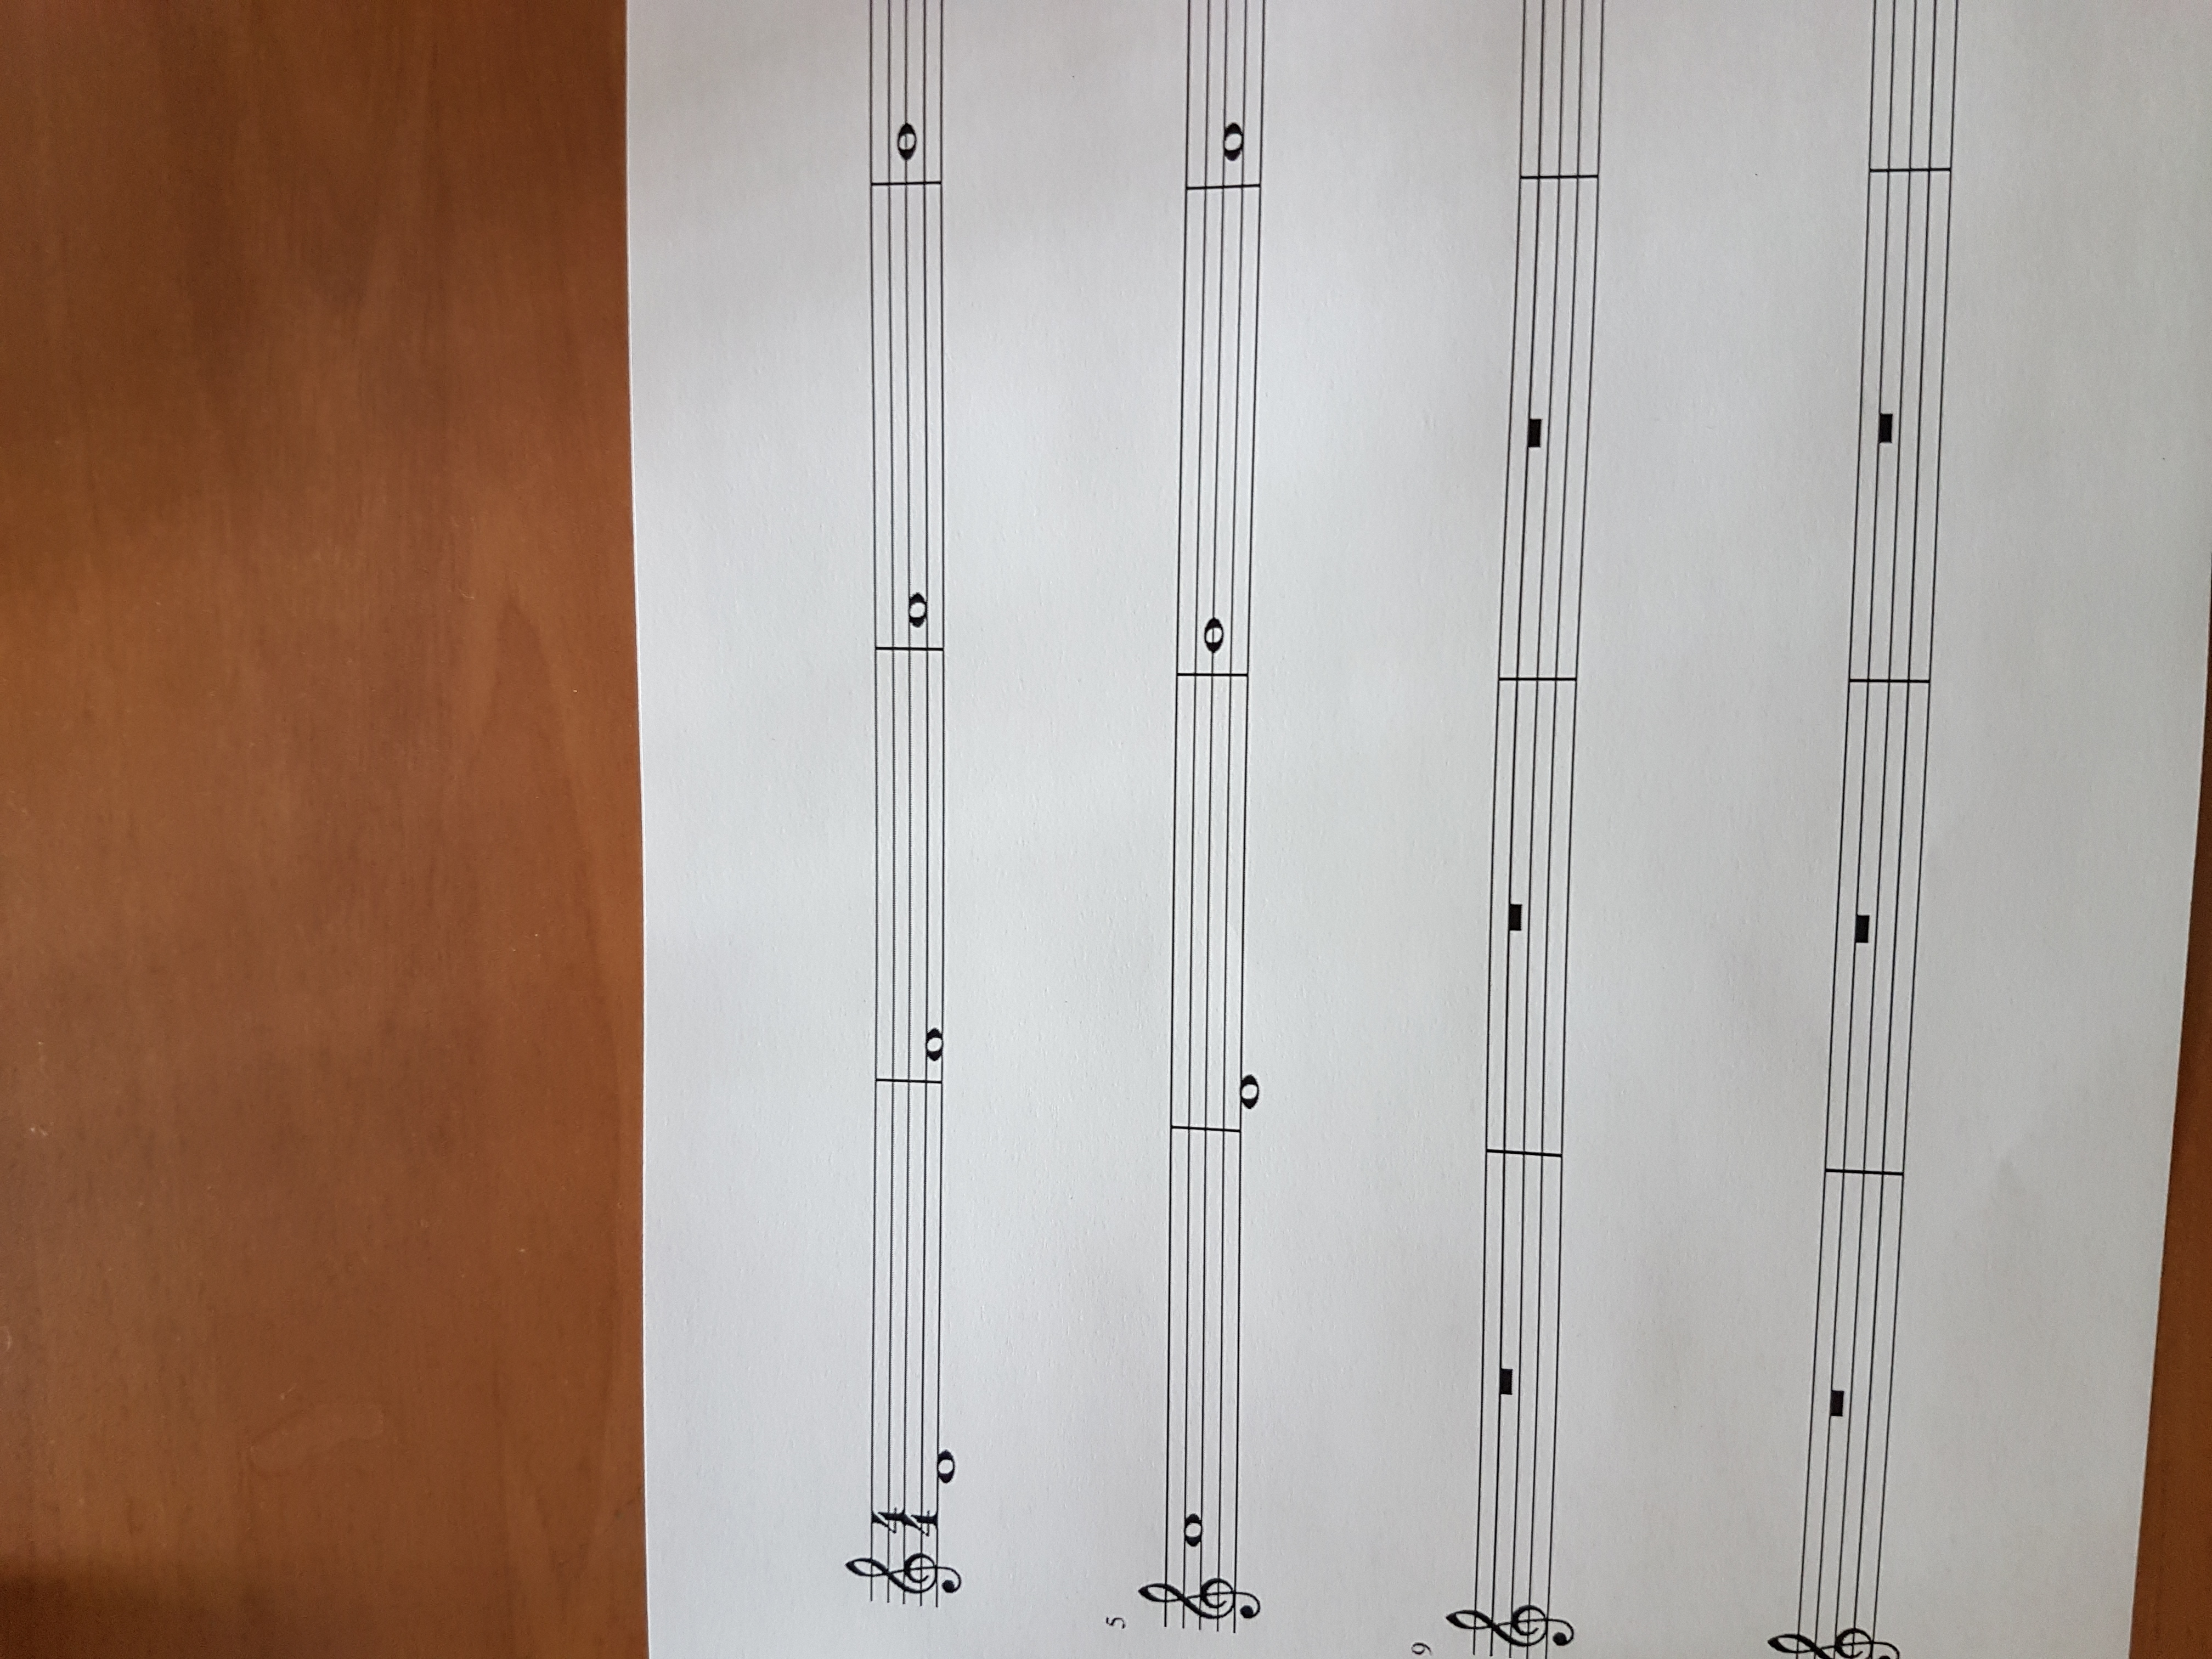key: (831, 1539, 974, 1621), (1435, 1593, 1590, 1654), (1125, 1572, 1271, 1628)
pipe: (1834, 662, 1958, 697), (1810, 1154, 1918, 1190), (1482, 662, 1590, 697), (1468, 1134, 1578, 1168), (1851, 153, 1970, 183), (862, 633, 961, 667), (1508, 164, 1620, 192), (1162, 662, 1264, 688), (1148, 1114, 1258, 1138), (866, 1072, 960, 1100), (860, 173, 961, 195), (1176, 176, 1277, 195)
semibreve_a: (845, 572, 968, 634), (1174, 108, 1285, 173)
semibreve_c: (1144, 1481, 1261, 1567)
semibreve_d: (1151, 1046, 1280, 1121), (850, 1429, 974, 1499)
semibreve_f: (859, 997, 970, 1072)
semibreve_h: (1157, 591, 1273, 664), (845, 112, 961, 167)
